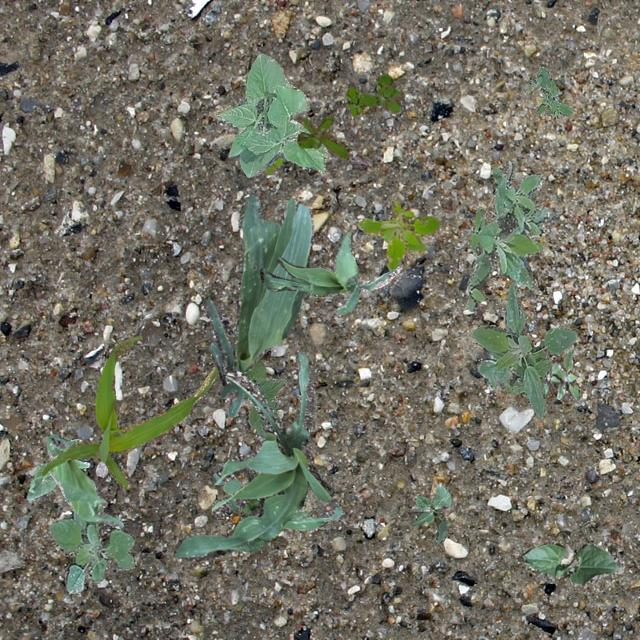crop: (174, 350, 332, 560), (39, 334, 218, 486), (204, 194, 312, 416), (470, 282, 576, 418), (214, 52, 326, 176), (260, 230, 400, 314), (216, 462, 340, 528), (46, 432, 122, 528), (522, 540, 624, 586), (26, 438, 88, 502), (242, 358, 286, 437), (410, 481, 450, 544)
weed: (464, 160, 548, 310), (46, 506, 134, 594), (358, 200, 438, 270), (344, 72, 404, 116), (524, 66, 572, 118), (296, 114, 348, 158), (542, 348, 580, 398), (264, 156, 282, 173)
